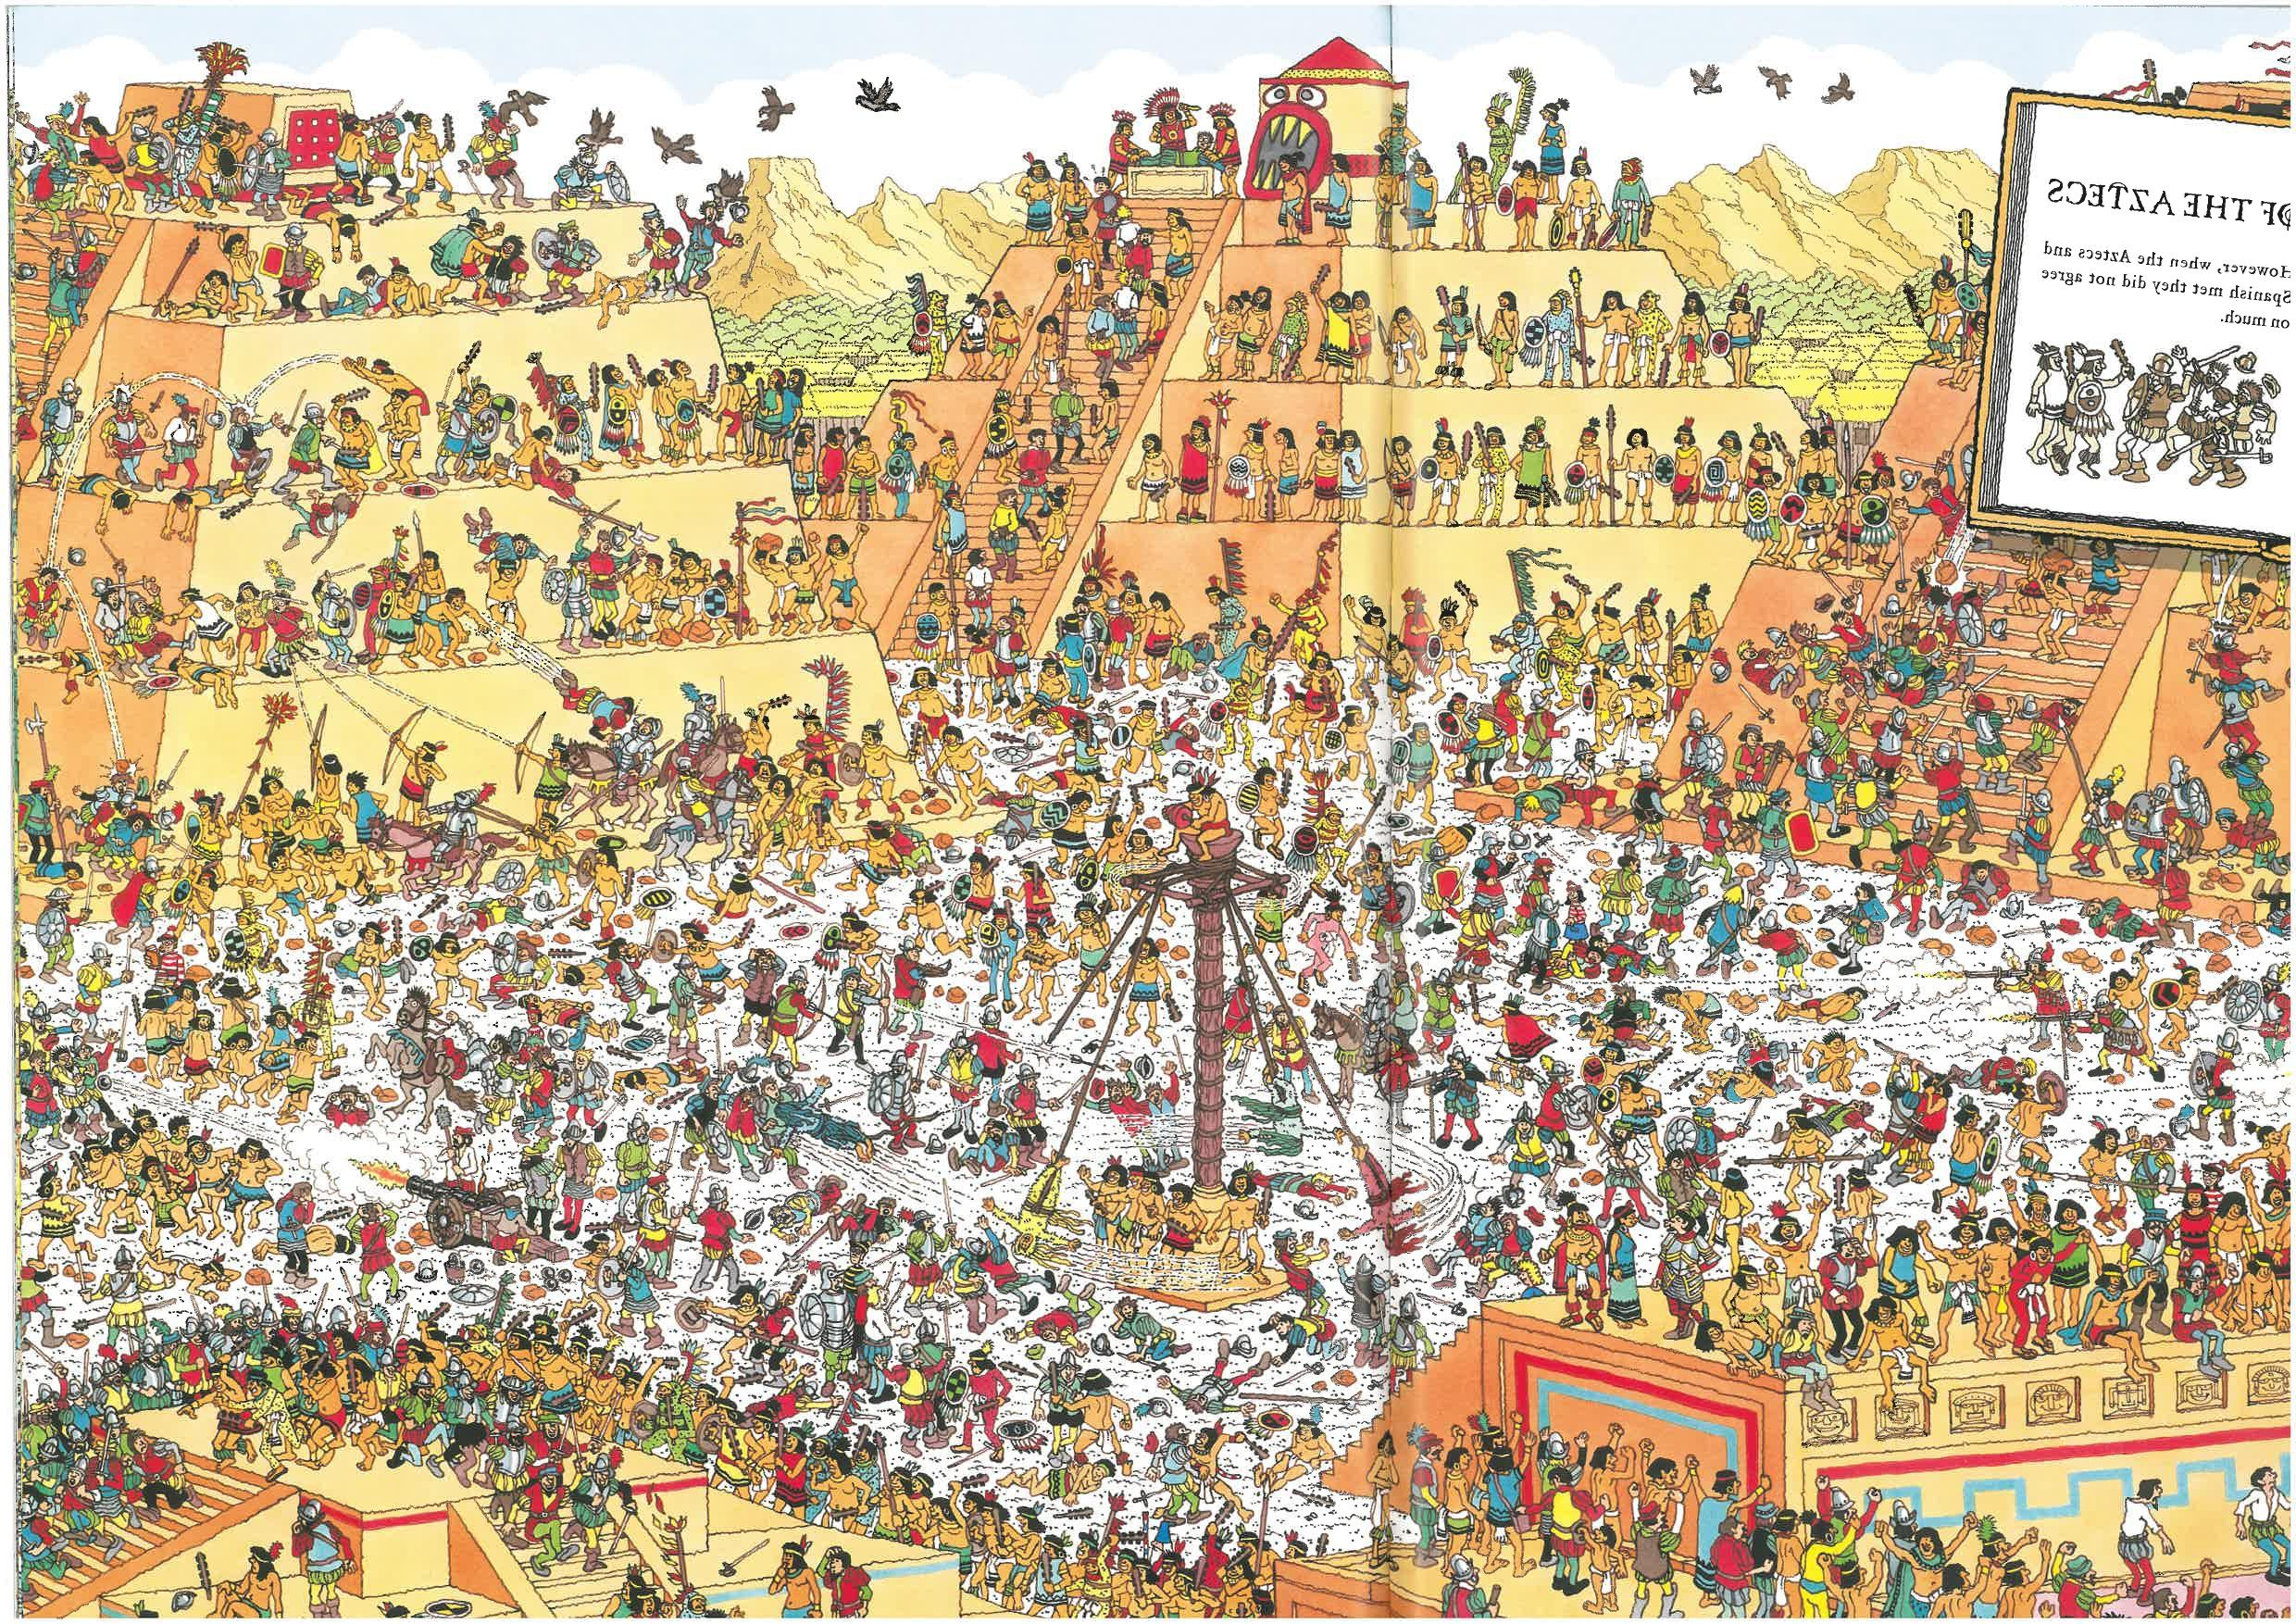waldos: (153, 923, 186, 997)
